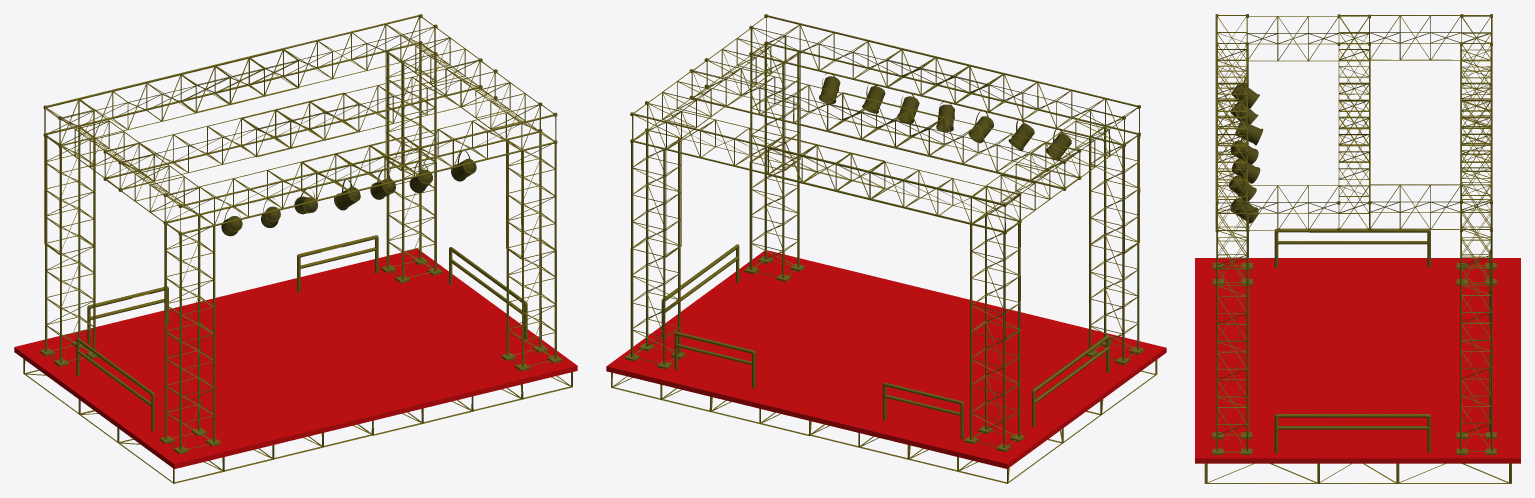
The model's file is stage222.fbx.
3 views of the same model, side by side, from view 1: azimuth 30°, elevation 25°; view 2: azimuth 150°, elevation 25°; view 3: azimuth 270°, elevation 25° (orthographic). The views are drawn at different scales.
Parts seen in each view (by area): view 1: floor, column, lamps; view 2: floor, column, lamps; view 3: floor, column, lamps.
Boxes of the visible parts, x1,y1,x2,y2 form: floor: (14, 248, 577, 468); column: (23, 14, 572, 483); lamps: (221, 150, 476, 236); floor: (606, 250, 1166, 468); column: (611, 14, 1157, 483); lamps: (819, 73, 1071, 159); floor: (1195, 258, 1520, 463); column: (1204, 14, 1511, 483); lamps: (1229, 77, 1263, 223).
Bounding box in the file's own units: 387 × 250 × 266.
